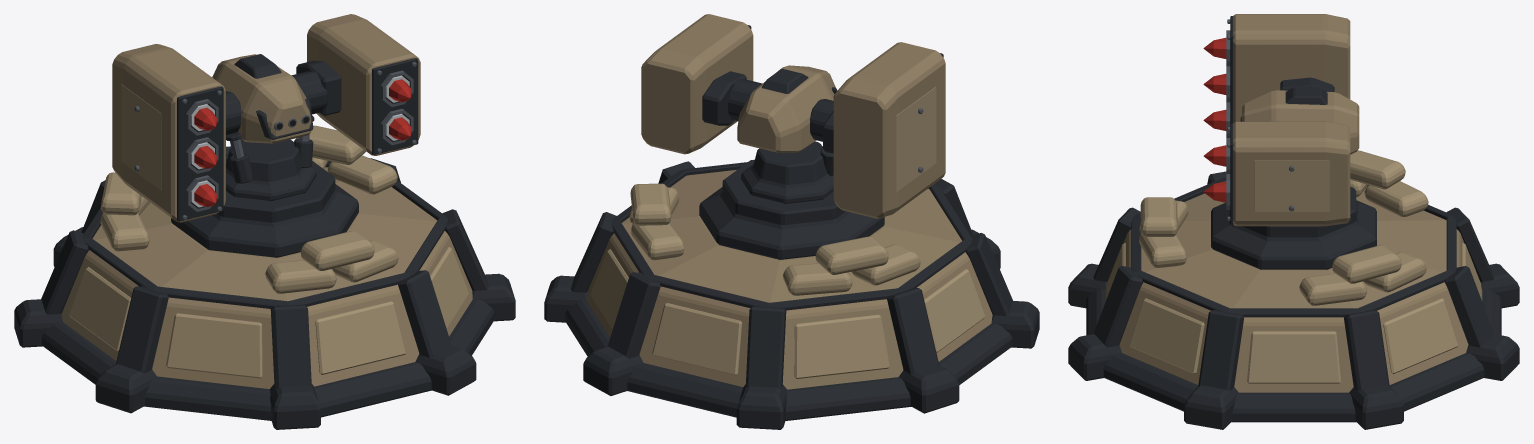
File: lm2-lanza-n4.glb
The picture shows the model from 3 angles, left to right: view 1: azimuth 30°, elevation 25°; view 2: azimuth 150°, elevation 25°; view 3: azimuth 270°, elevation 25°; orthographic projection. The views are drawn at different scales.
Visible parts, largest first — view 1: casco, gun_pitch, turret_yaw, rocket_04, rocket_05, rocket_01, rocket_02, rocket_03; view 2: casco, gun_pitch, turret_yaw; view 3: casco, gun_pitch.
Part boxes in pixels (x1,y1,x2,y2): casco: [14, 125, 515, 429]; gun_pitch: [112, 14, 420, 222]; turret_yaw: [226, 115, 316, 200]; rocket_04: [385, 113, 411, 140]; rocket_05: [385, 75, 411, 102]; rocket_01: [191, 180, 216, 207]; rocket_02: [191, 142, 216, 169]; rocket_03: [191, 104, 216, 130]; casco: [544, 146, 1039, 429]; gun_pitch: [641, 14, 945, 218]; turret_yaw: [741, 141, 833, 203]; casco: [1068, 150, 1519, 429]; gun_pitch: [1226, 14, 1359, 226].
Bounding box in the file's own units: 1 × 0.657 × 1.
